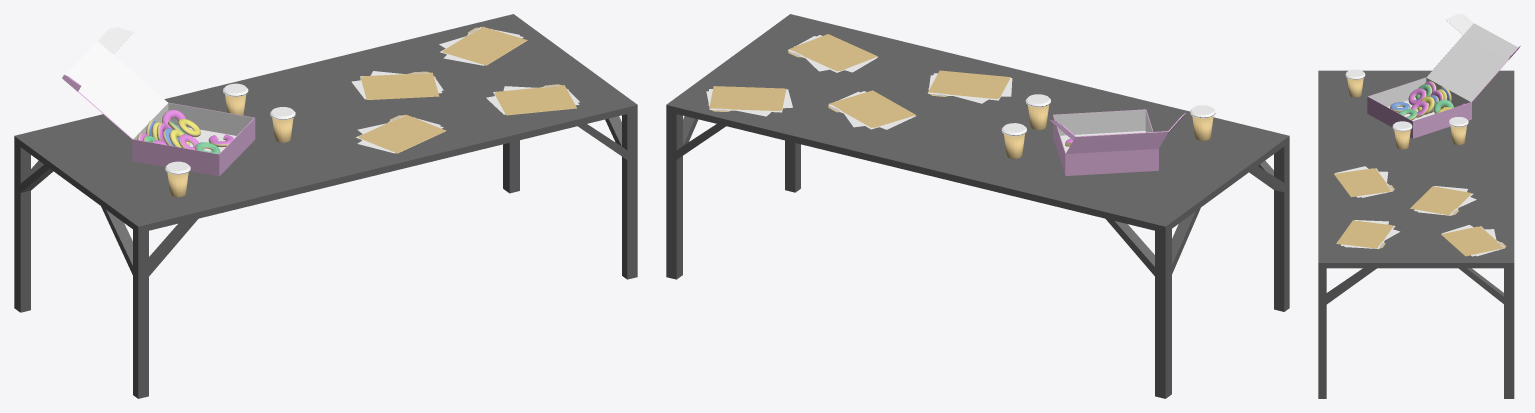
The model's file is TableOffice.fbx.
The picture shows the model from 3 angles, left to right: view 1: azimuth 30°, elevation 25°; view 2: azimuth 150°, elevation 25°; view 3: azimuth 270°, elevation 25°; orthographic projection. The views are drawn at different scales.
Parts seen in each view (by area): view 1: Cube; view 2: Cube; view 3: Cube.
Boxes of the visible parts, x1=… form: Cube: x1=14, y1=14, x2=637, y2=398; Cube: x1=666, y1=14, x2=1289, y2=398; Cube: x1=1318, y1=14, x2=1520, y2=398.
Size of the model in its own units: 720 by 349 by 320.
